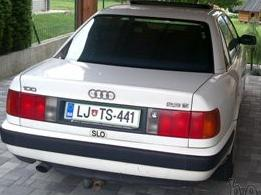back_view: (2, 75, 221, 185)
backlight: (144, 101, 228, 142)
side_glass: (216, 10, 241, 62)
